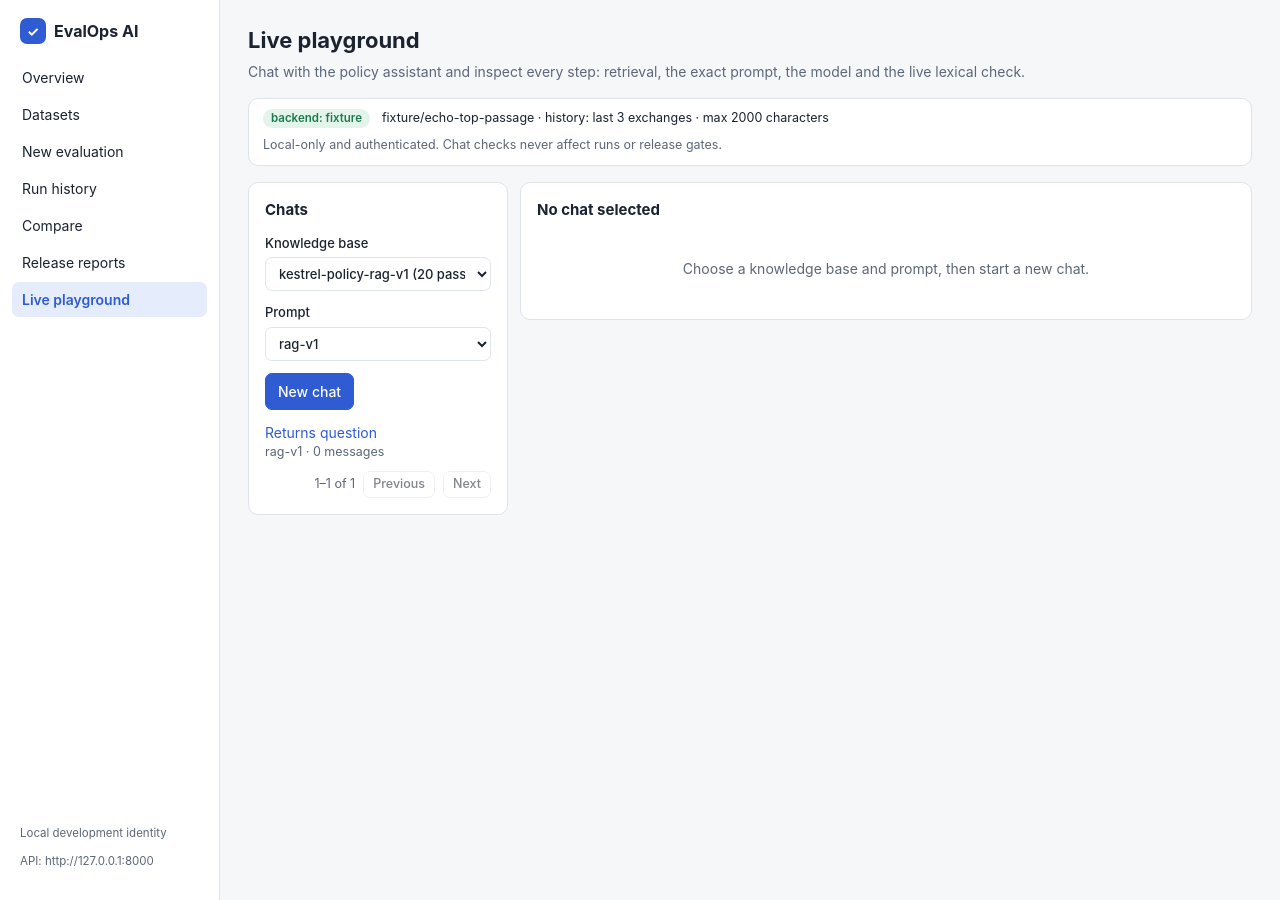
Test case: Live playground › sends a message and shows the execution inspector with honest labels
Click the button "Returns question".
click(321, 432)  # box [265,422,377,442]
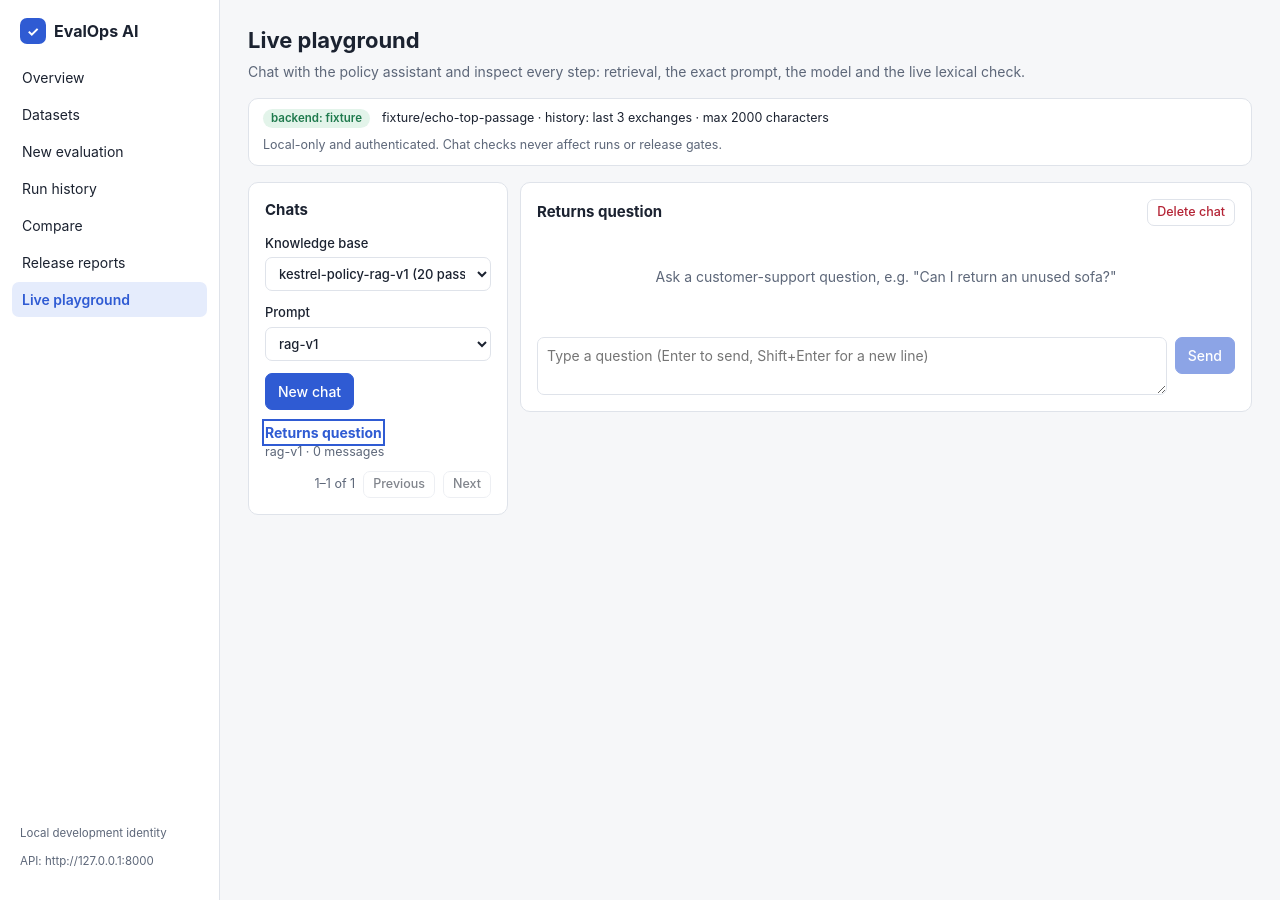
Type "Can I return an unused sofa?" into the text box named "Message".
click(852, 366); type("Can I return an unused sofa?")  # box [537,337,1167,395]
Then press Enter
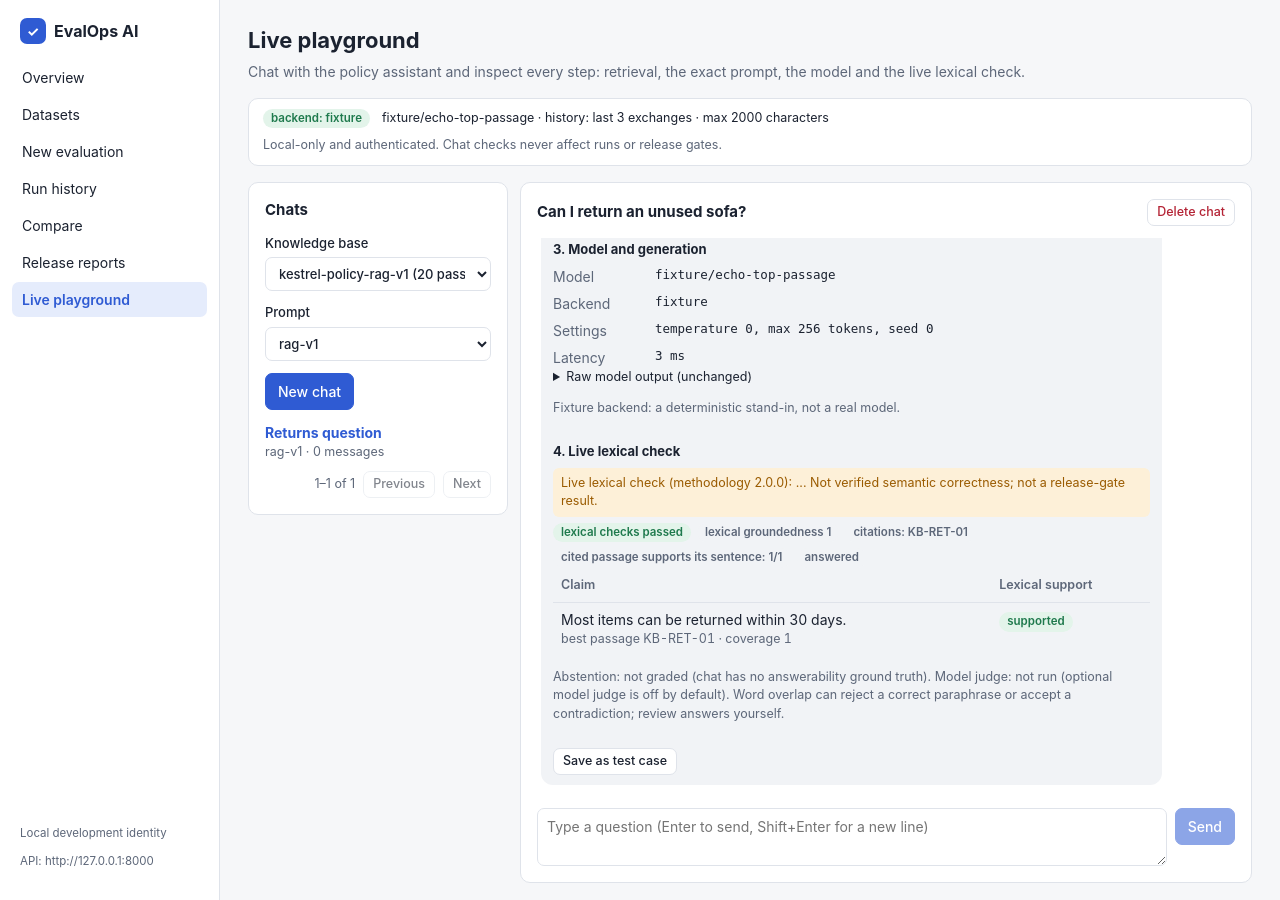
Result: the text with test id "lexical-label" shows "Not verified semantic correctness" at [561,474,1125,508]
Result: the text "not graded" is shown at [624,668,928,684]
